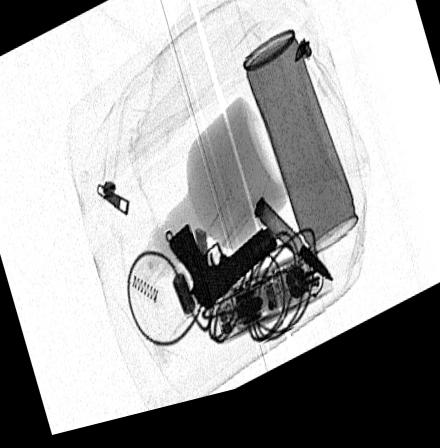Bullet: (254, 207, 334, 296)
Gun: (168, 233, 279, 319)
